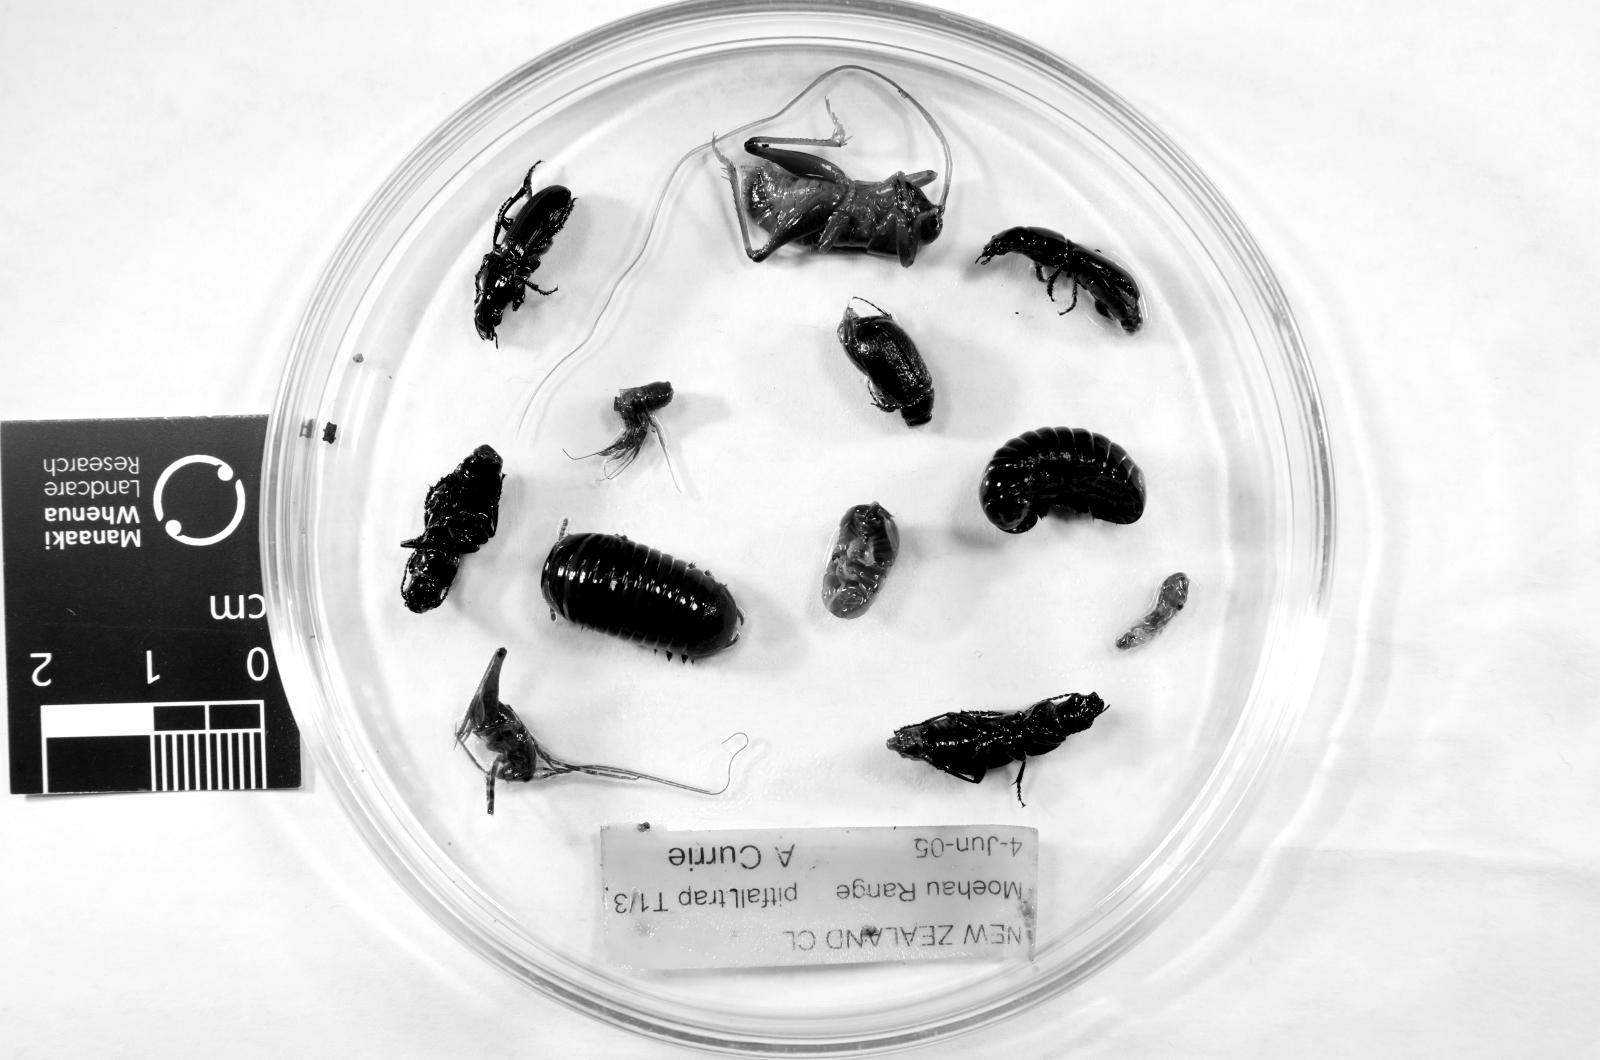carabidae: (887, 692, 1106, 801), (978, 227, 1144, 336), (475, 164, 575, 344), (400, 444, 503, 612)
coleoptera: (837, 308, 934, 426)
isopoda: (540, 535, 740, 658), (978, 428, 1147, 535), (822, 503, 900, 618)
opiliones: (597, 382, 672, 478)
orthoptera: (456, 649, 728, 814), (713, 115, 944, 267)
